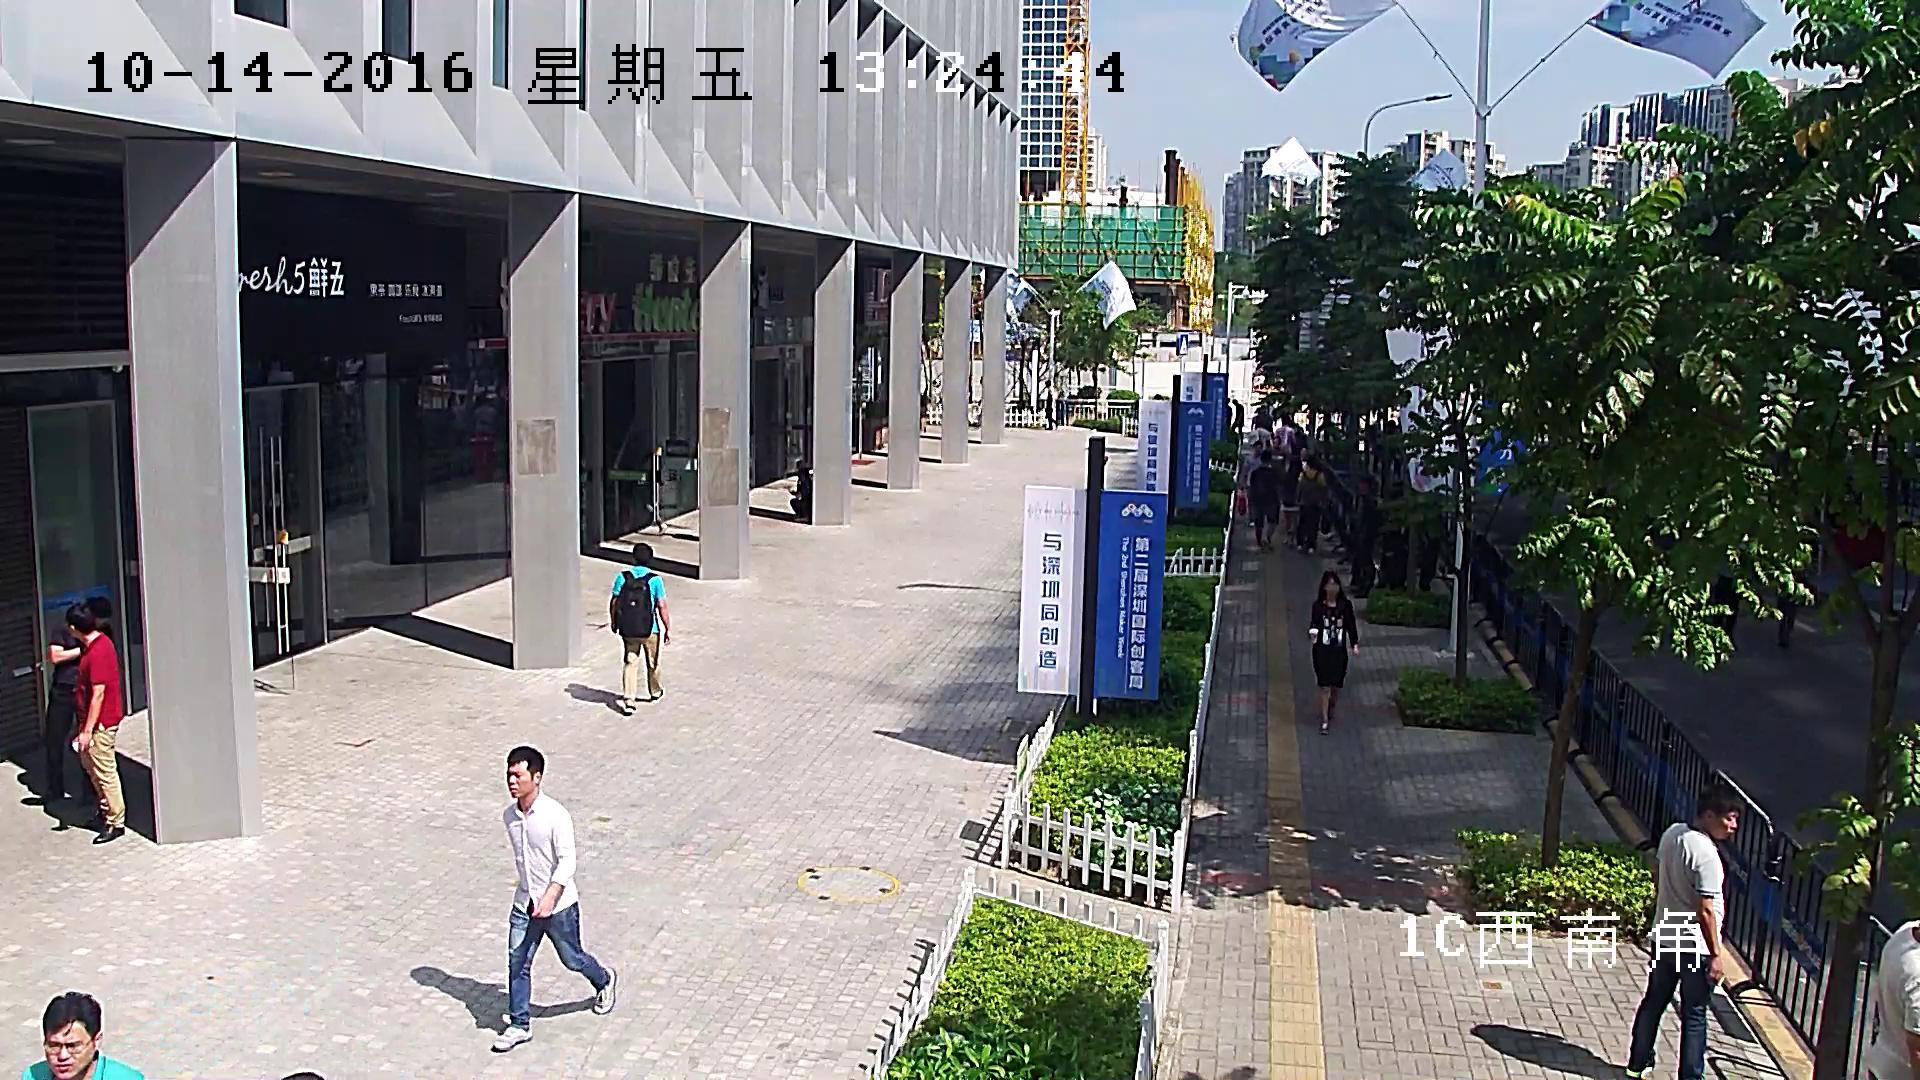person: (490, 746, 616, 1051), (1624, 785, 1739, 1079), (41, 596, 115, 800), (65, 606, 125, 843), (21, 992, 140, 1080), (610, 543, 670, 712), (1867, 919, 1920, 1080), (1308, 570, 1358, 735), (1250, 450, 1279, 550), (1296, 457, 1326, 553), (1238, 440, 1266, 526), (1280, 458, 1300, 544), (1274, 416, 1297, 472), (788, 466, 812, 521), (1255, 405, 1276, 445), (1045, 380, 1057, 430), (1231, 399, 1243, 446)
